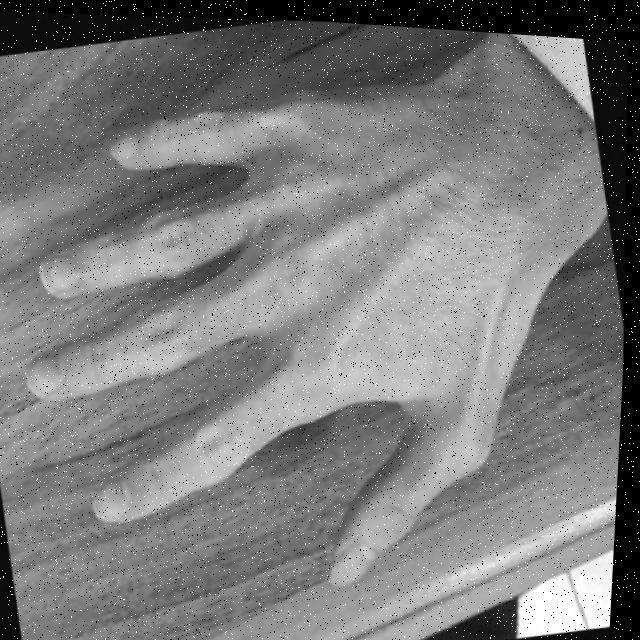no-gloves: (8, 49, 600, 610)
